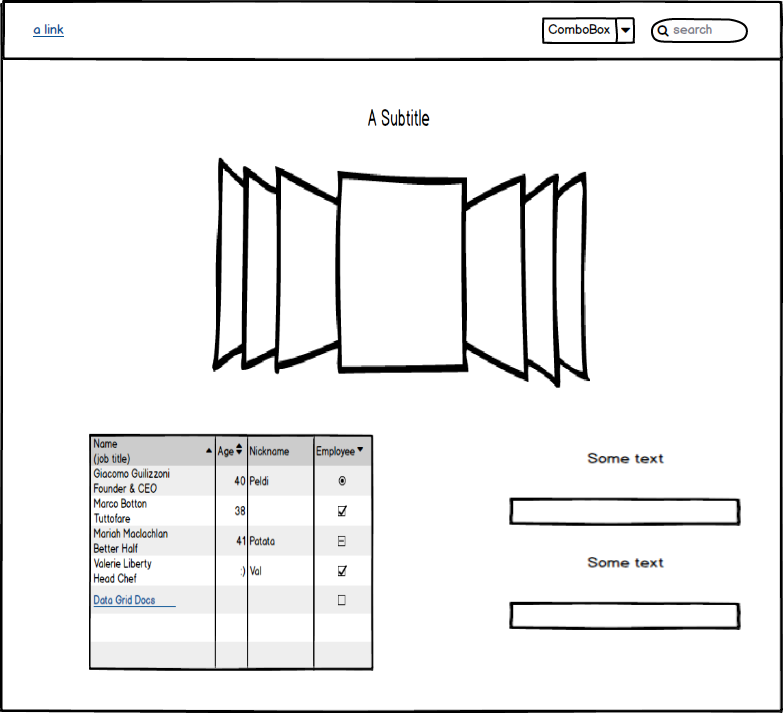h1: (357, 103, 437, 134)
input: (504, 597, 745, 636), (507, 494, 745, 532)
label: (580, 549, 676, 574), (579, 449, 670, 471)
navlink: (27, 17, 79, 44)
search: (649, 14, 752, 50)
select_box: (537, 11, 642, 50)
slideshow: (194, 148, 598, 395)
table: (80, 431, 379, 674)
